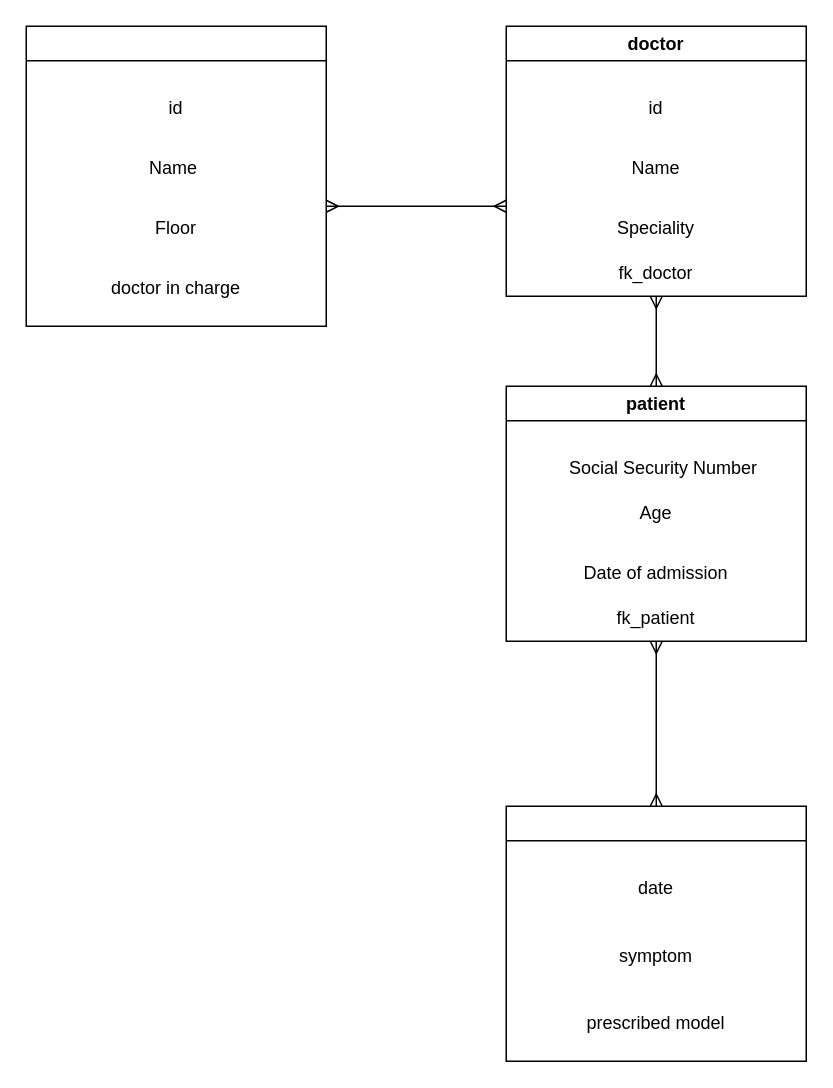
Image size: 833x1088. Some labels were removed from this diagram. The shapes that lost their labels are listed below. From the top down, each one's box as (x1, y1, x2, y2) in pixels, then its label:
(25, 25, 326, 326): unit
(505, 805, 806, 1061): intervention
